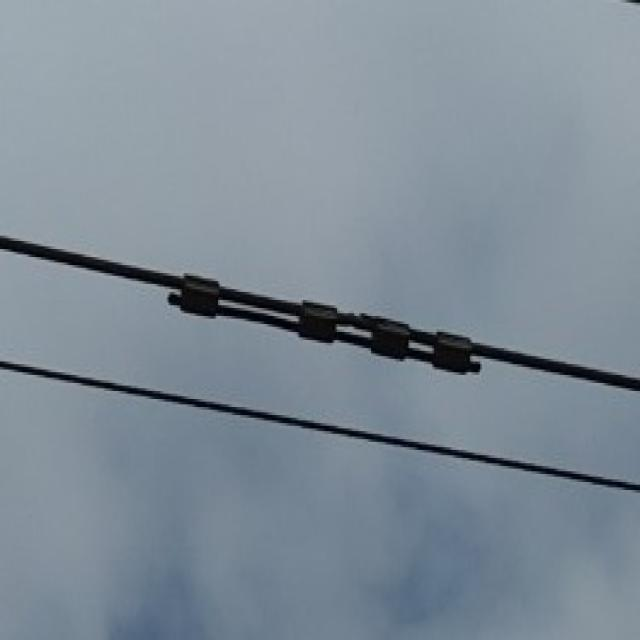wire: (2, 357, 640, 496)
